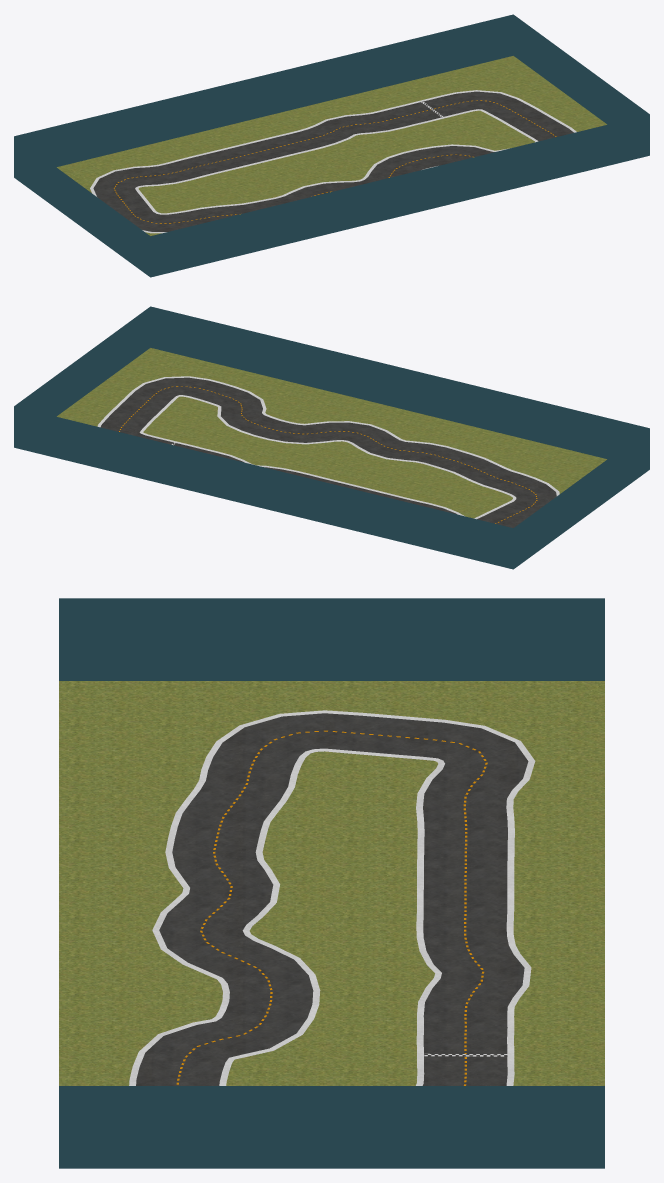
The model's file is 2022_summit_speedway_cw.dae.
3 renders of one model, top to bottom at view 1: azimuth 30°, elevation 25°; view 2: azimuth 150°, elevation 25°; view 3: azimuth 270°, elevation 25°, orthographic. The views are drawn at different scales.
Parts seen in each view (by area): view 1: wall, field, road, ol, il, cl; view 2: wall, field, road, ol, il; view 3: field, wall, road, il, ol, cl.
Part boxes in pixels (x1,y1,x2,y2): wall: [14, 14, 649, 277]; field: [57, 56, 606, 235]; road: [93, 91, 573, 231]; ol: [135, 109, 538, 214]; il: [90, 90, 576, 233]; cl: [114, 100, 556, 223]; wall: [14, 306, 649, 569]; field: [57, 348, 606, 518]; road: [100, 377, 556, 527]; ol: [139, 395, 516, 519]; il: [97, 376, 559, 495]; field: [59, 681, 604, 1085]; wall: [59, 598, 604, 1168]; road: [136, 713, 528, 1085]; il: [129, 710, 535, 1085]; ol: [219, 748, 444, 1085]; cl: [176, 730, 487, 1085].
Bounding box in the file's own units: 12.65 × 5.99 × 1.
Materials: 7 (7 with a texture image).
